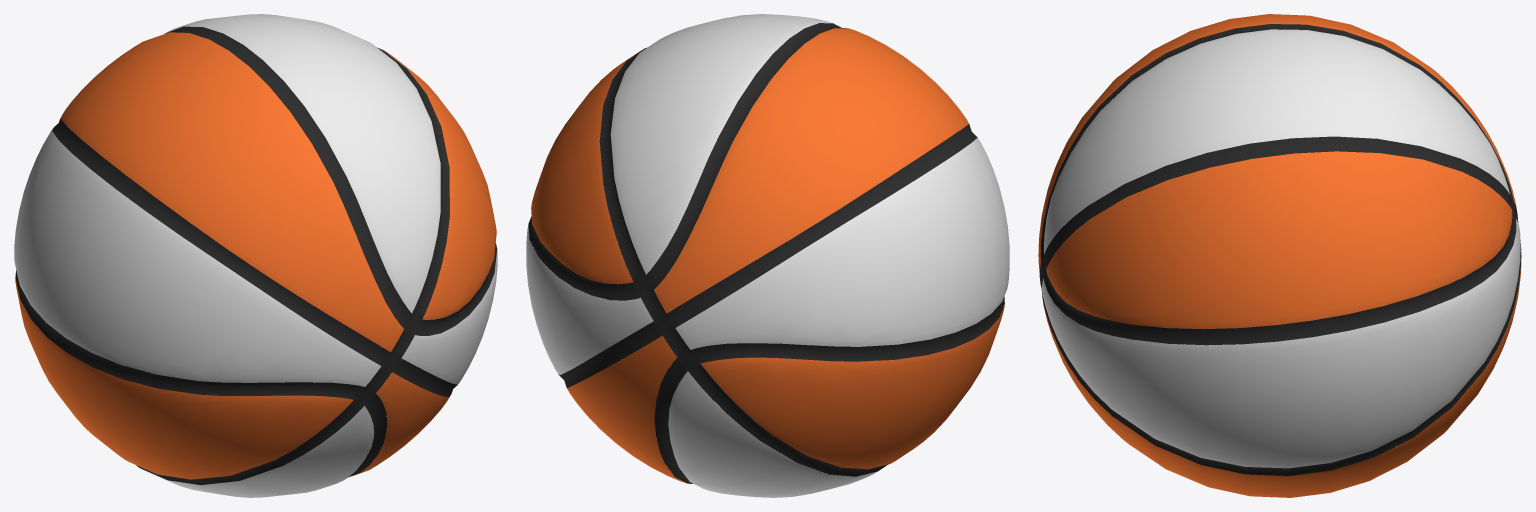
The model's file is basketballBall-transformed.glb.
3 views of the same model, side by side, from view 1: azimuth 30°, elevation 25°; view 2: azimuth 150°, elevation 25°; view 3: azimuth 270°, elevation 25° (orthographic).
Parts seen in each view (by area): view 1: backetballBallWhite, backetballBallOrange, backetballBallBlack; view 2: backetballBallWhite, backetballBallOrange, backetballBallBlack; view 3: backetballBallWhite, backetballBallOrange, backetballBallBlack.
Part boxes in pixels (x1,y1,x2,y2): backetballBallWhite: (14,14,497,497); backetballBallOrange: (15,32,496,479); backetballBallBlack: (15,26,497,484); backetballBallWhite: (526,14,1009,497); backetballBallOrange: (531,28,1004,483); backetballBallBlack: (528,23,1004,483); backetballBallWhite: (1042,29,1520,468); backetballBallOrange: (1038,14,1521,497); backetballBallBlack: (1039,24,1521,475).
Size of the model in its own units: 11.35 by 11.34 by 11.32.
